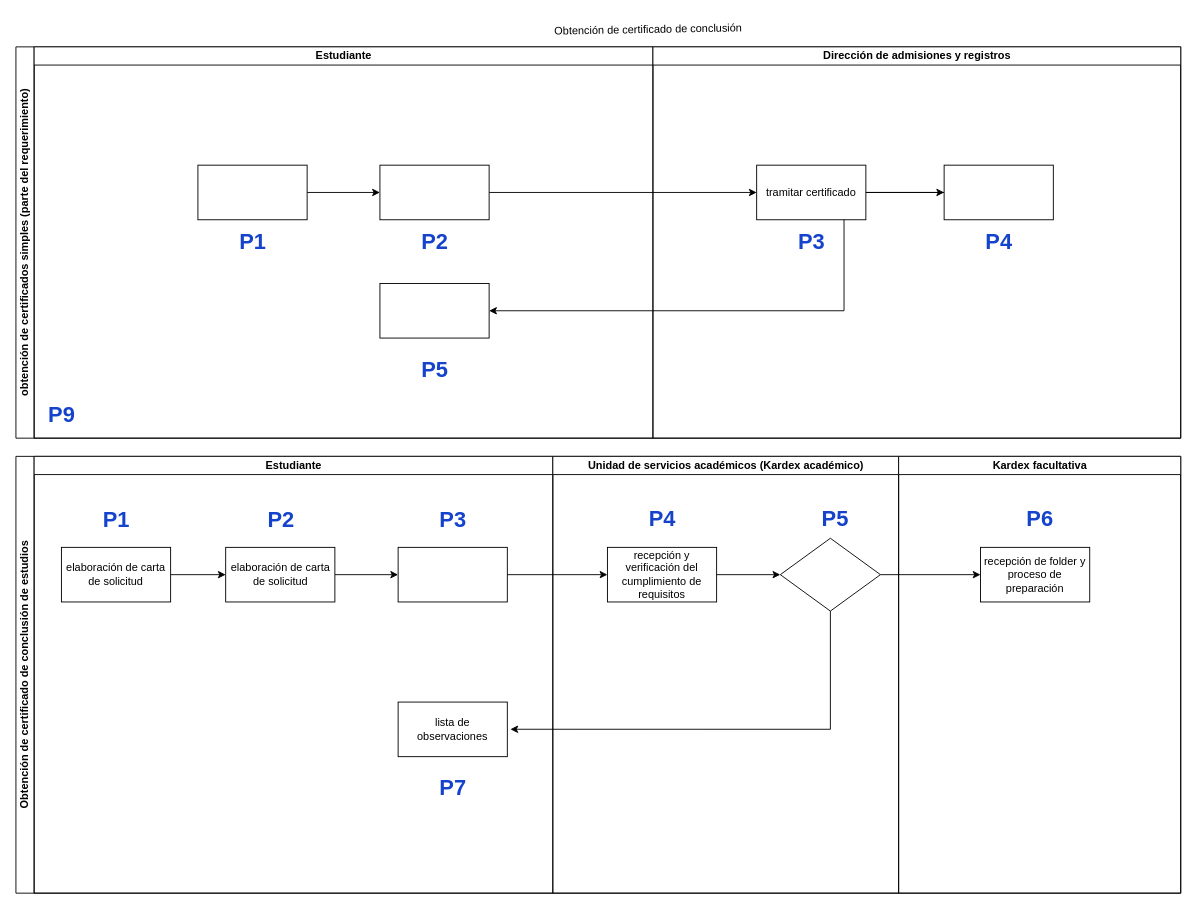
The diagram is 1197 pixels wide and 909 high, and some of its shapes have lost their labels. The centre of each missing label's shape, as x and y in pixels:
"emitir certificado" goes at pixel 998 192.
"pagar certificado" goes at pixel 434 192.
"presentación de requisitos de manera física" goes at pixel 452 574.
"recepcionar certificado" goes at pixel 434 310.
"selección de tipo de certificado y adicionar información si se requiere" goes at pixel 252 192.
"¿observaciones?" goes at pixel 829 574.
